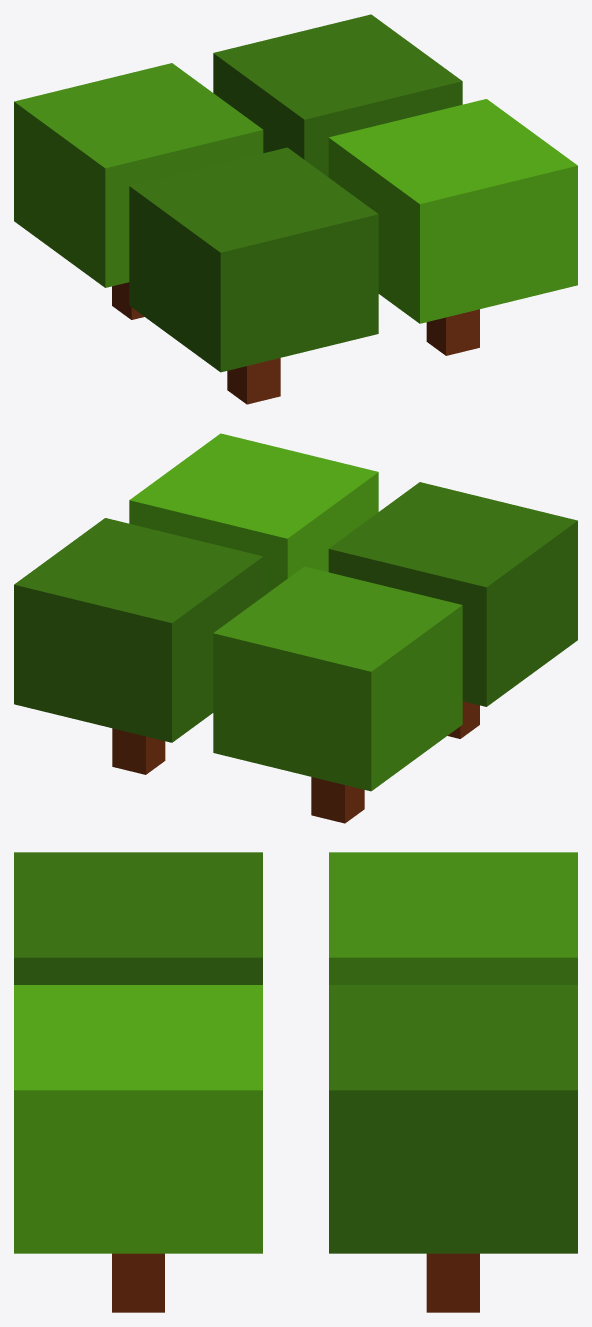
The model's file is Tree_Law_Green_01_Dark.fbx.
The picture shows the model from 3 angles, top to bottom: view 1: azimuth 30°, elevation 25°; view 2: azimuth 150°, elevation 25°; view 3: azimuth 270°, elevation 25°; orthographic projection. The views are drawn at different scales.
Parts seen in each view (by area): view 1: Cube; view 2: Cube; view 3: Cube.
Part boxes in pixels (left/top/right/bottom): Cube: left=14, top=14, right=577, bottom=404; Cube: left=14, top=433, right=577, bottom=823; Cube: left=14, top=852, right=577, bottom=1312.
Size of the model in its own units: 0.8965 by 0.4632 by 0.8981.
